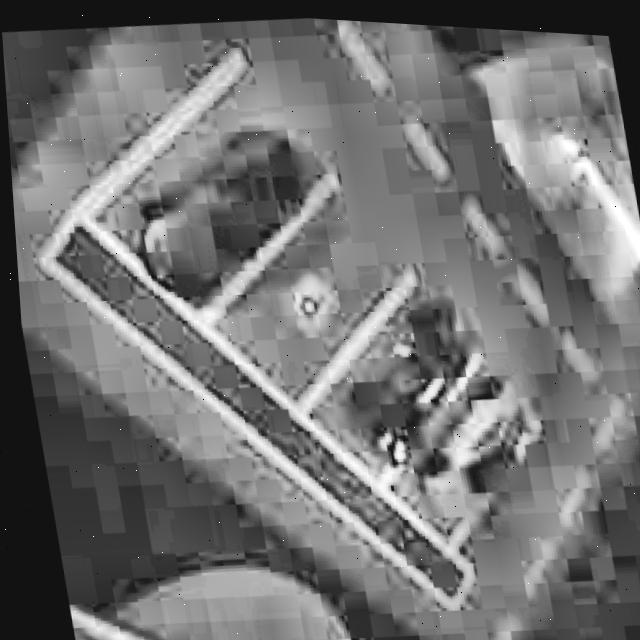car: (100, 96, 340, 317), (319, 277, 505, 479), (385, 358, 553, 535)
